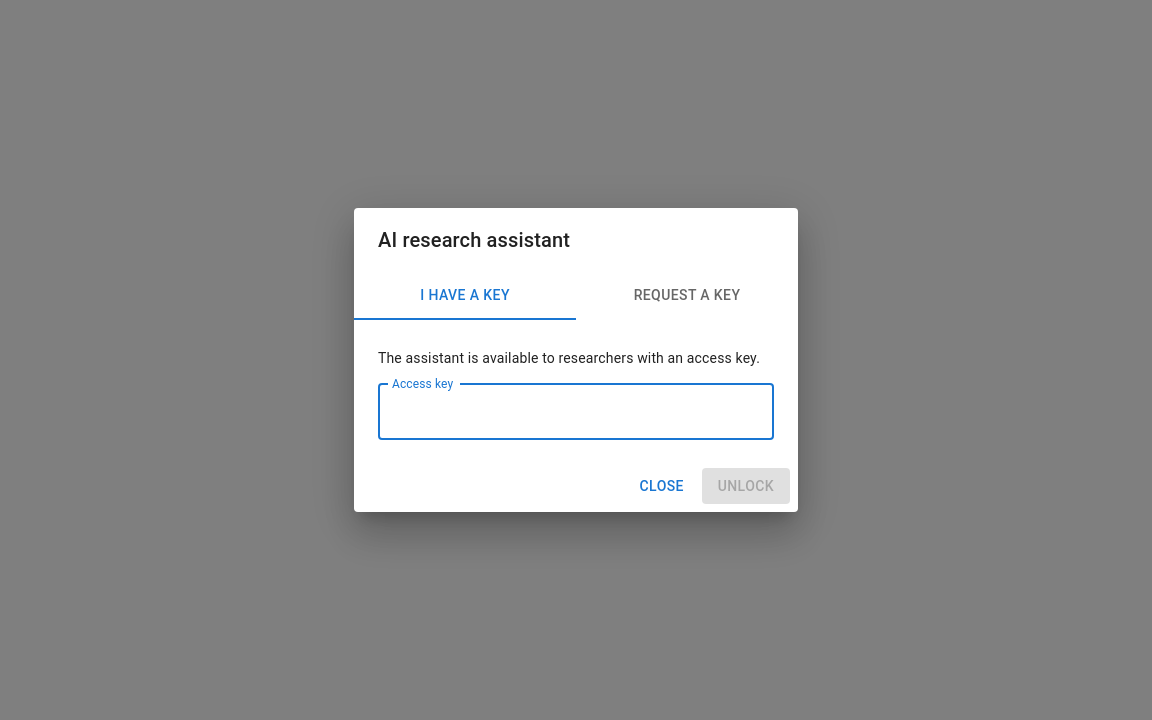
AIAccessModal › tells people to email the contact address to request a key, with no form and no request sent
Step 1. Click the tab "Request a key" → [687, 296], box [576,272,798,320]
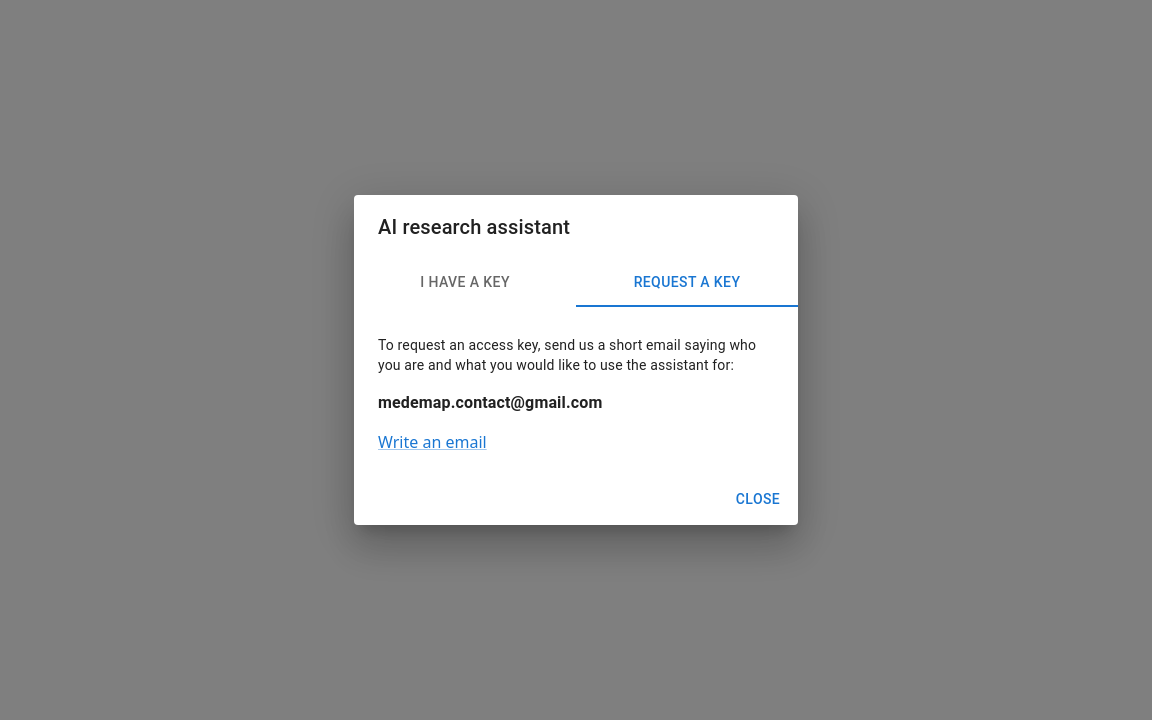
expect the text "medemap.contact@gmail.com" is shown: met, box [378,393,602,412]
